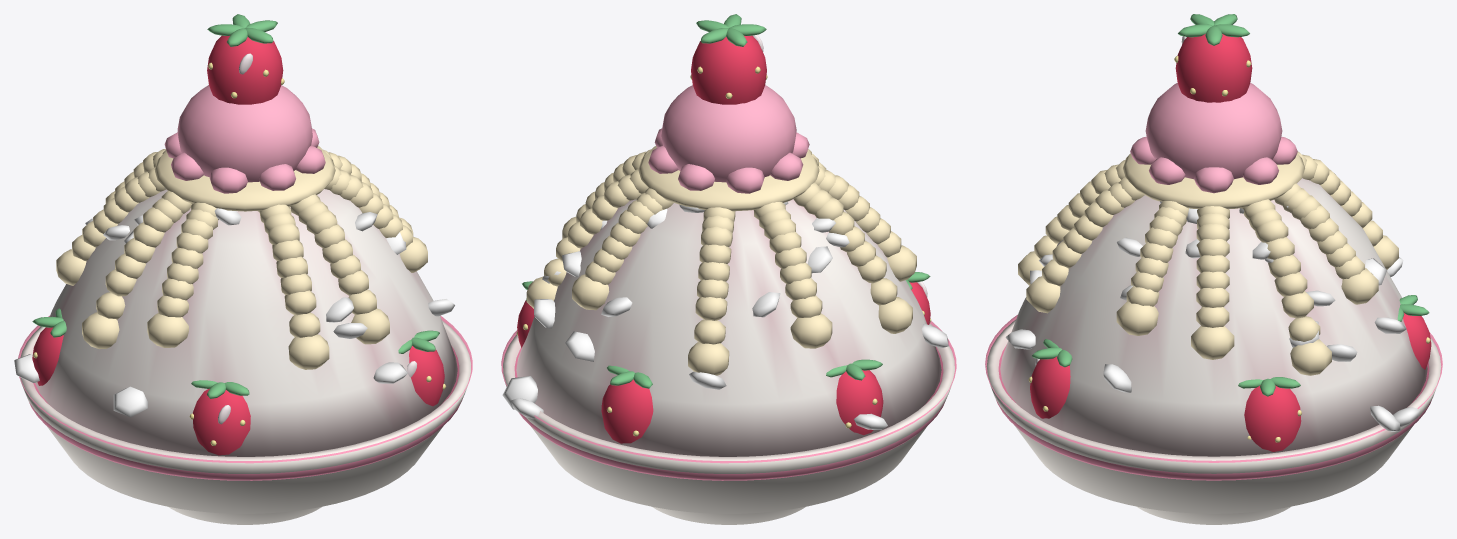
Rendered from bingsu.glb.
3 renders of one model, left to right at view 1: azimuth 30°, elevation 25°; view 2: azimuth 150°, elevation 25°; view 3: azimuth 270°, elevation 25°, orthographic.
Visible parts, largest first — view 1: snow, gfff0c8, bowl, cffb3cc, gf04466, cffffff, band, c7cc68a; view 2: snow, gfff0c8, bowl, cffb3cc, gf04466, cffffff, band, c7cc68a; view 3: snow, gfff0c8, bowl, cffb3cc, gf04466, cffffff, band, c7cc68a.
Boxes of the visible parts, box(x1,y1,x2,y2) form: snow: box(35, 189, 457, 456); gfff0c8: box(56, 146, 427, 369); bowl: box(20, 320, 470, 524); cffb3cc: box(164, 85, 325, 193); gf04466: box(32, 35, 444, 455); cffffff: box(14, 187, 454, 417); band: box(18, 315, 472, 480); c7cc68a: box(32, 14, 439, 398); snow: box(516, 199, 941, 456); gfff0c8: box(526, 146, 916, 375); bowl: box(503, 323, 954, 524); cffb3cc: box(648, 85, 809, 193); gf04466: box(517, 35, 930, 443); cffffff: box(502, 201, 948, 430); band: box(501, 321, 956, 480); c7cc68a: box(522, 14, 930, 388); snow: box(1000, 178, 1427, 456); gfff0c8: box(1018, 151, 1398, 375); bowl: box(986, 319, 1441, 524); cffb3cc: box(1130, 83, 1297, 193); gf04466: box(1030, 34, 1431, 451); cffffff: box(1005, 201, 1419, 431); band: box(985, 314, 1442, 480); c7cc68a: box(1032, 14, 1429, 396).
Bounding box in the file's own units: 0.502 × 0.56 × 0.502.
